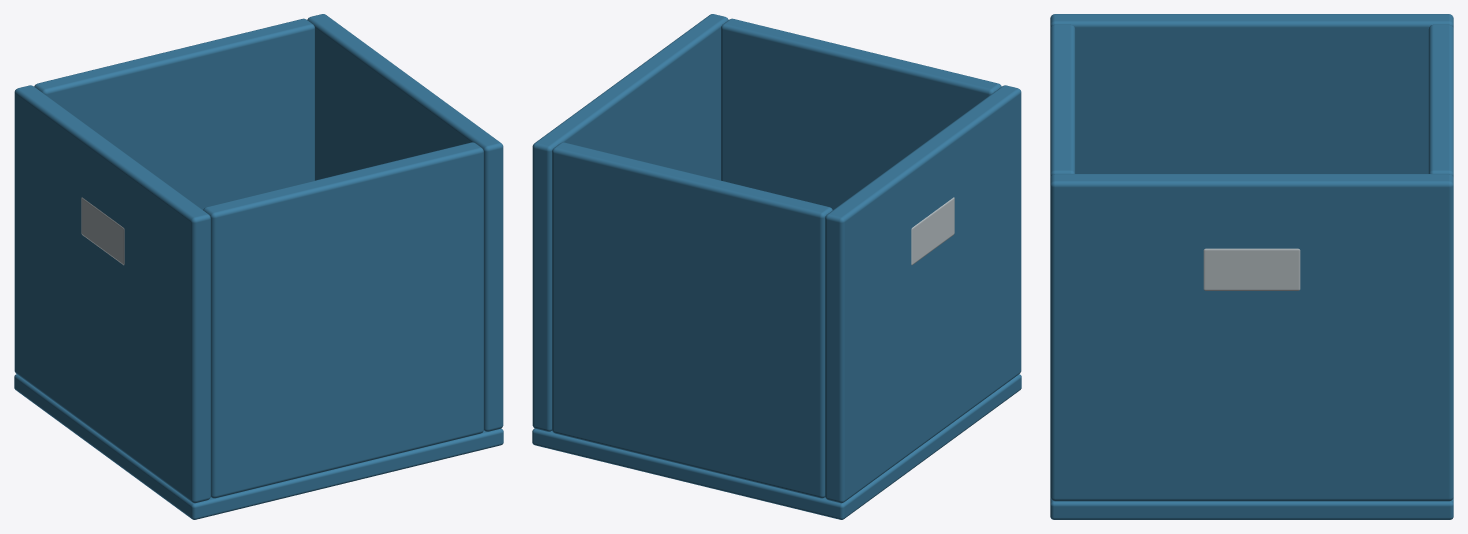
Rendered from Steel_collector.glb.
3 views of the same model, side by side, from view 1: azimuth 30°, elevation 25°; view 2: azimuth 150°, elevation 25°; view 3: azimuth 270°, elevation 25° (orthographic). The views are drawn at different scales.
Visible parts, largest first — view 1: magnetic-collection-bin; view 2: magnetic-collection-bin; view 3: magnetic-collection-bin.
Boxes of the visible parts, x1,y1,x2,y2 form: magnetic-collection-bin: [14, 14, 503, 519]; magnetic-collection-bin: [532, 14, 1021, 519]; magnetic-collection-bin: [1050, 14, 1453, 519].
Size of the model in its own units: 0.8024 by 0.74 by 0.8.
